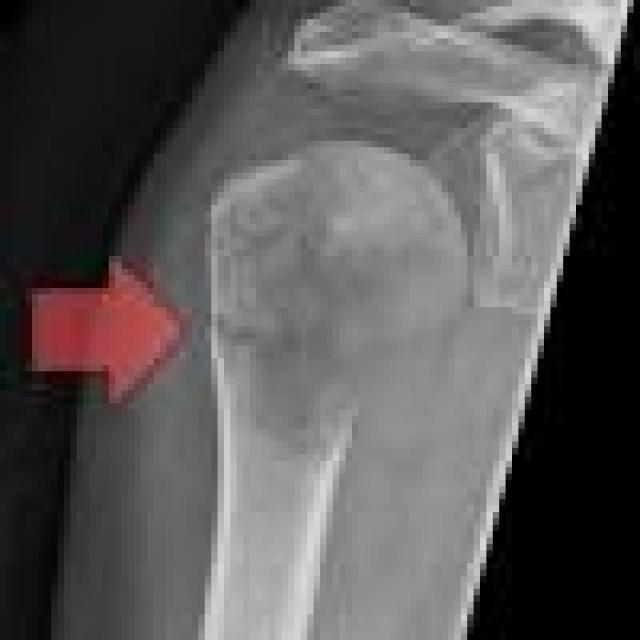pathological: (164, 259, 396, 455)
